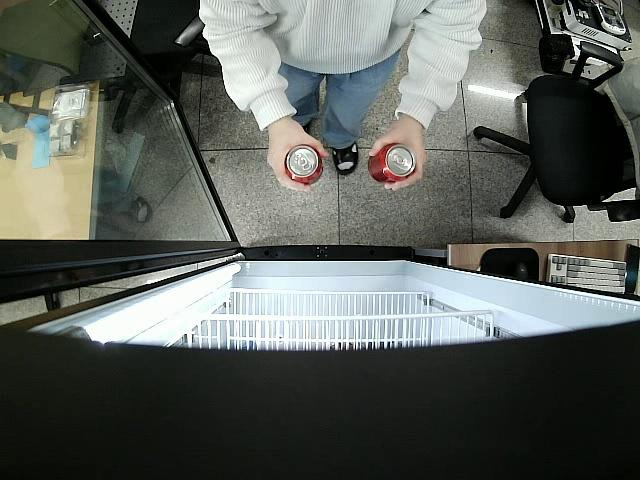00_hand: (368, 123, 427, 191), (266, 130, 329, 193)
11_cocaColaZero: (284, 143, 326, 187), (366, 144, 415, 181)
